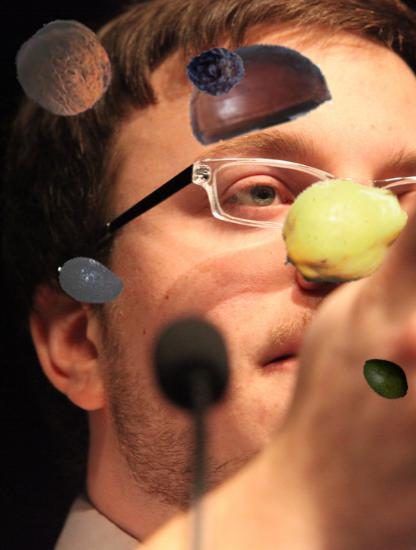Avocado: (56, 247, 126, 317), (360, 352, 412, 404)
Chestnut: (179, 13, 329, 163)
Dates: (188, 43, 246, 101)
Quince: (276, 164, 409, 297)
Walnut: (15, 20, 113, 118)
